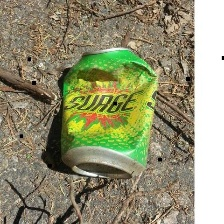can: (52, 44, 162, 183)
